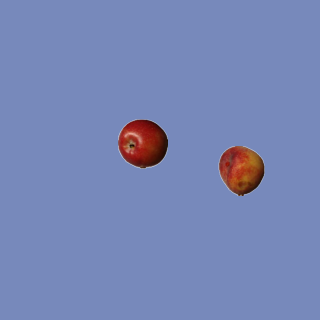Apple Braeburn: (117, 118, 167, 168)
Peach: (216, 145, 266, 195)
